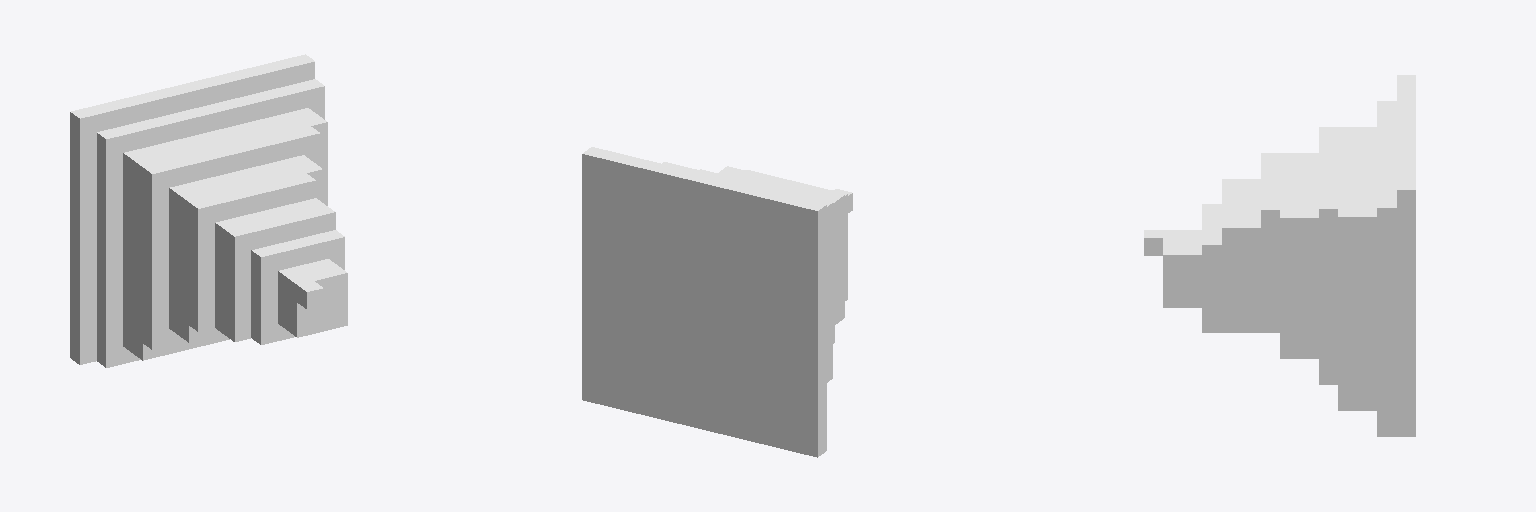
The model's file is obstacle2-1-spike0.obj.
The picture shows the model from 3 angles: view 1: azimuth 30°, elevation 25°; view 2: azimuth 150°, elevation 25°; view 3: azimuth 270°, elevation 25°; orthographic projection.
Parts seen in each view (by area): view 1: spike0; view 2: spike0; view 3: spike0.
Part boxes in pixels (x1,y1,x2,y2): spike0: (70,54,347,367); spike0: (582,147,852,457); spike0: (1144,75,1415,436).
Size of the model in its own units: 1.4 by 1.4 by 1.4.